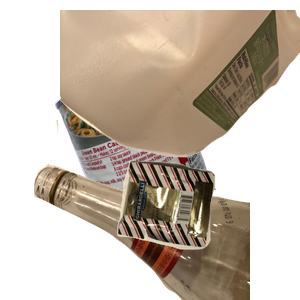glass: (31, 120, 271, 300)
metal: (52, 57, 260, 237)
plastic: (60, 10, 300, 160)
trash: (115, 158, 300, 300)
